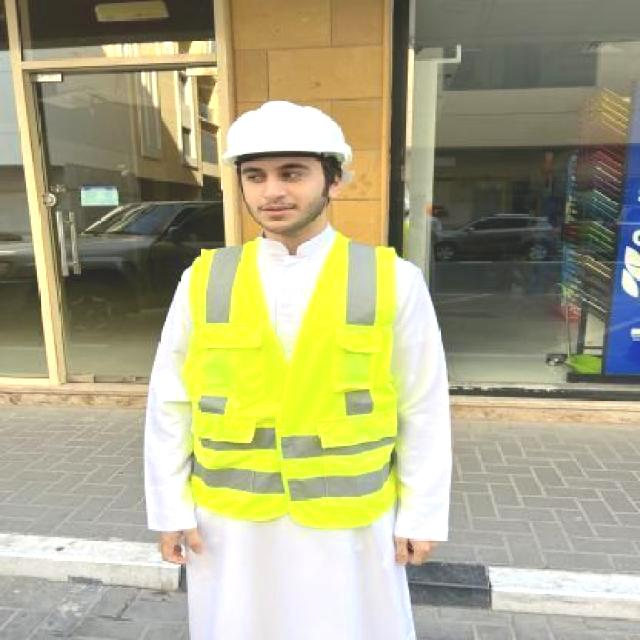Helmet: (210, 100, 352, 168)
Mask: (190, 226, 398, 483)
